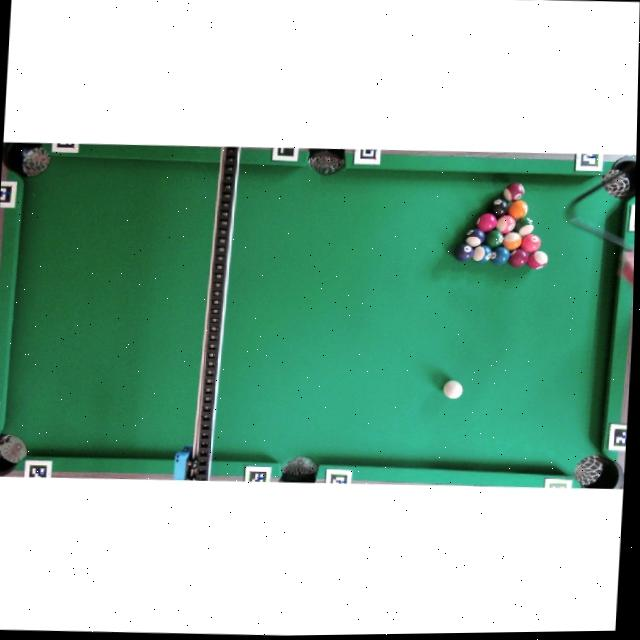cue ball: (442, 379, 464, 399)
other: (488, 197, 510, 218), (476, 212, 498, 232), (503, 182, 525, 202), (507, 199, 528, 219), (464, 227, 485, 247), (520, 233, 541, 253), (513, 217, 534, 237), (526, 250, 548, 269), (495, 214, 515, 234), (490, 245, 510, 265), (454, 242, 474, 262), (472, 244, 493, 263), (501, 231, 522, 250), (508, 249, 529, 268), (485, 228, 504, 248)
